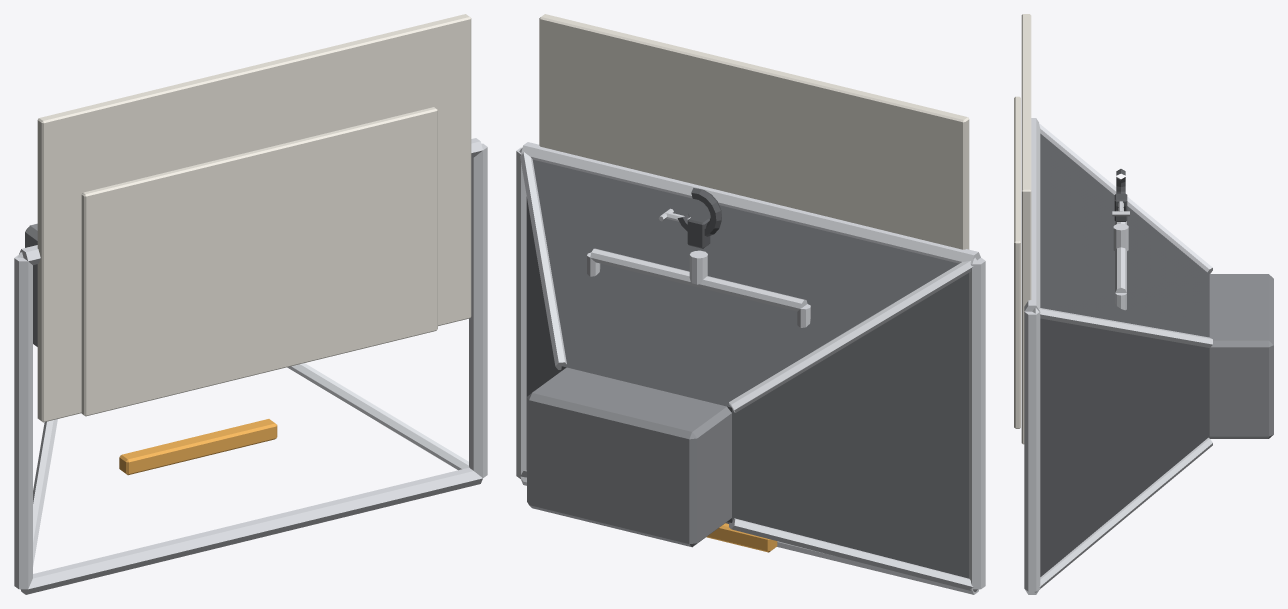
Rendered from 35504_Softbox_Panel_Light__TV_Studio_and_Broadcast_Gallery_.glb.
3 renders of one model, left to right at view 1: azimuth 30°, elevation 25°; view 2: azimuth 150°, elevation 25°; view 3: azimuth 270°, elevation 25°, orthographic. The views are drawn at different scales.
Parts seen in each view (by area): view 1: softbox-panel; view 2: softbox-panel; view 3: softbox-panel.
Part boxes in pixels (x1,y1,x2,y2): softbox-panel: (14, 14, 487, 594); softbox-panel: (516, 14, 985, 594); softbox-panel: (1014, 14, 1273, 594).
Bounding box in the file's own units: 0.9277 × 0.8939 × 0.527.
